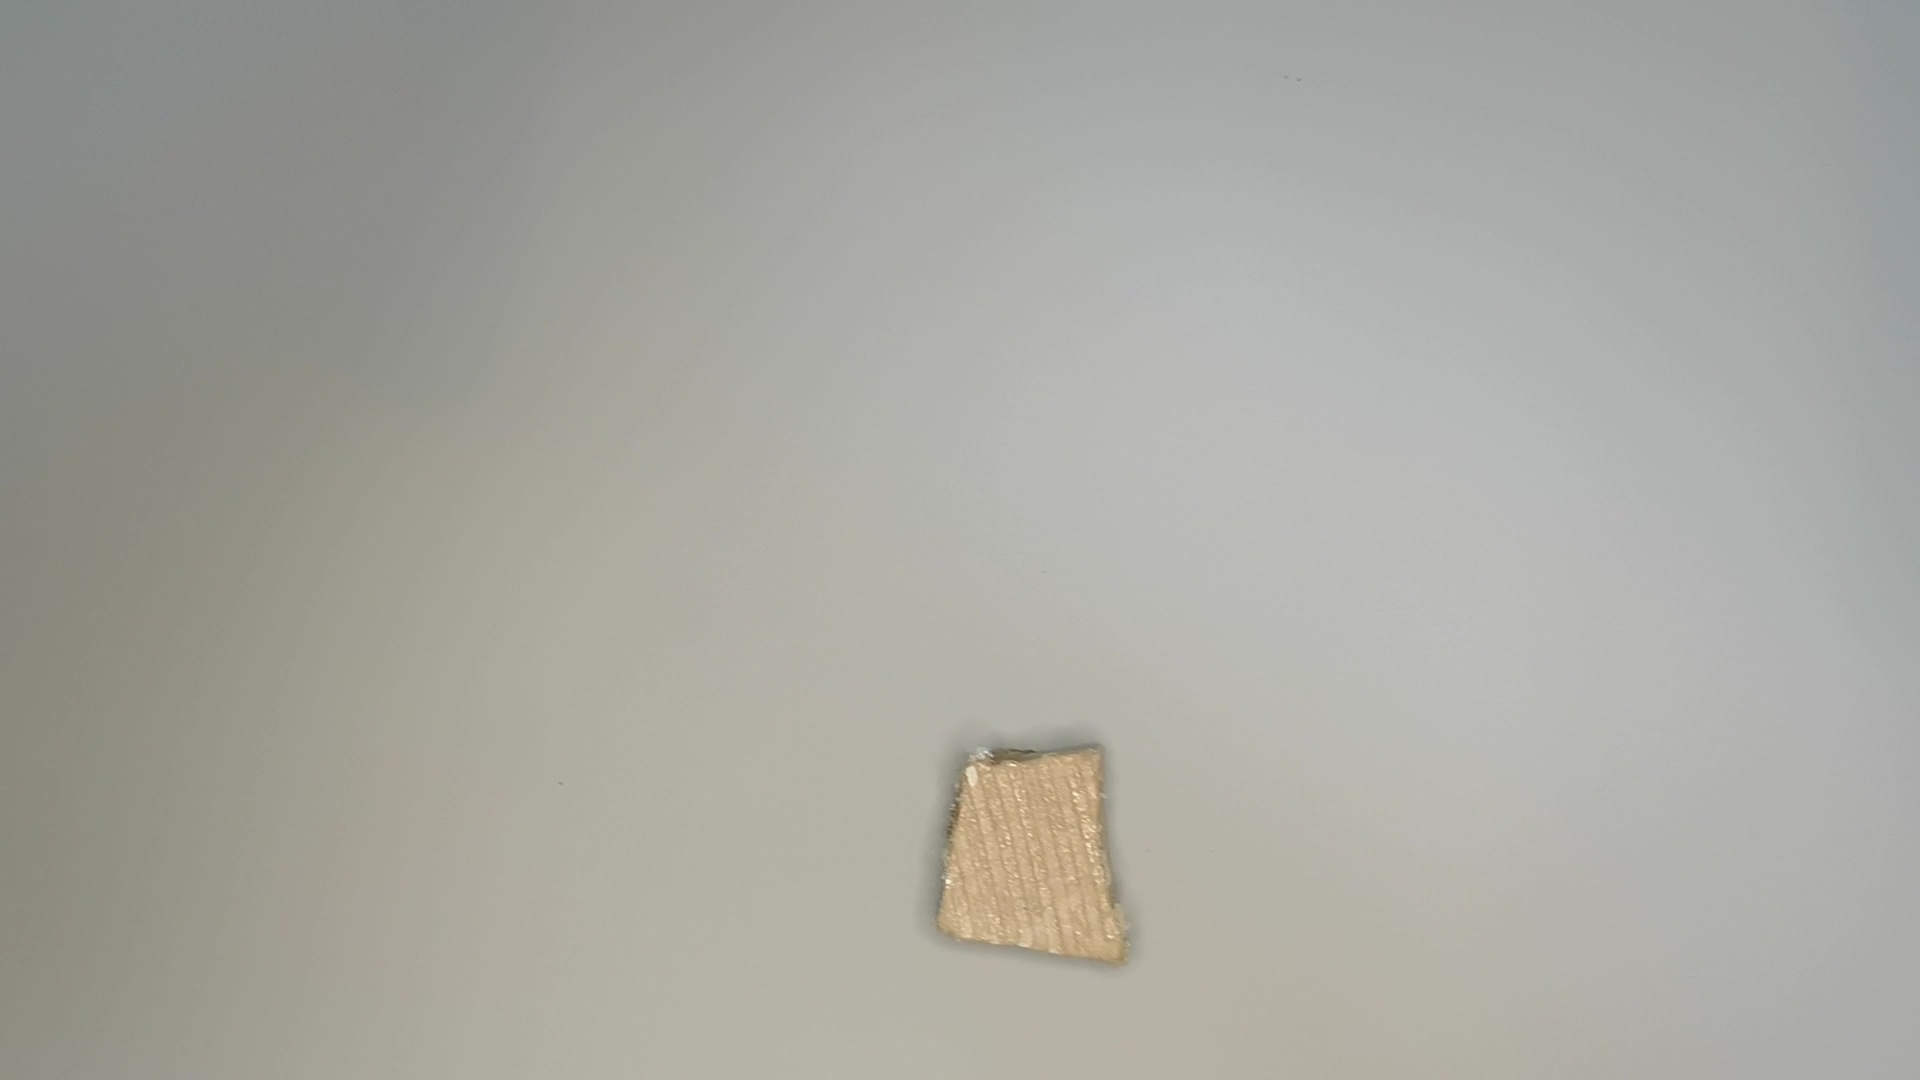ceramic: (928, 738, 1149, 975)
